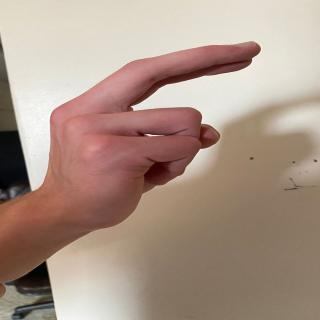ZAY: (34, 36, 282, 217)
